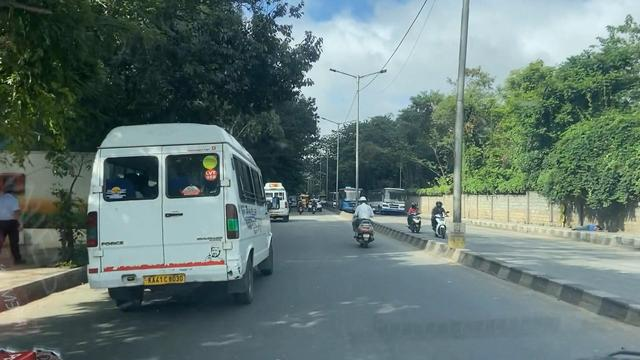HMV: (102, 132, 280, 309)
LMV: (338, 186, 384, 254)
